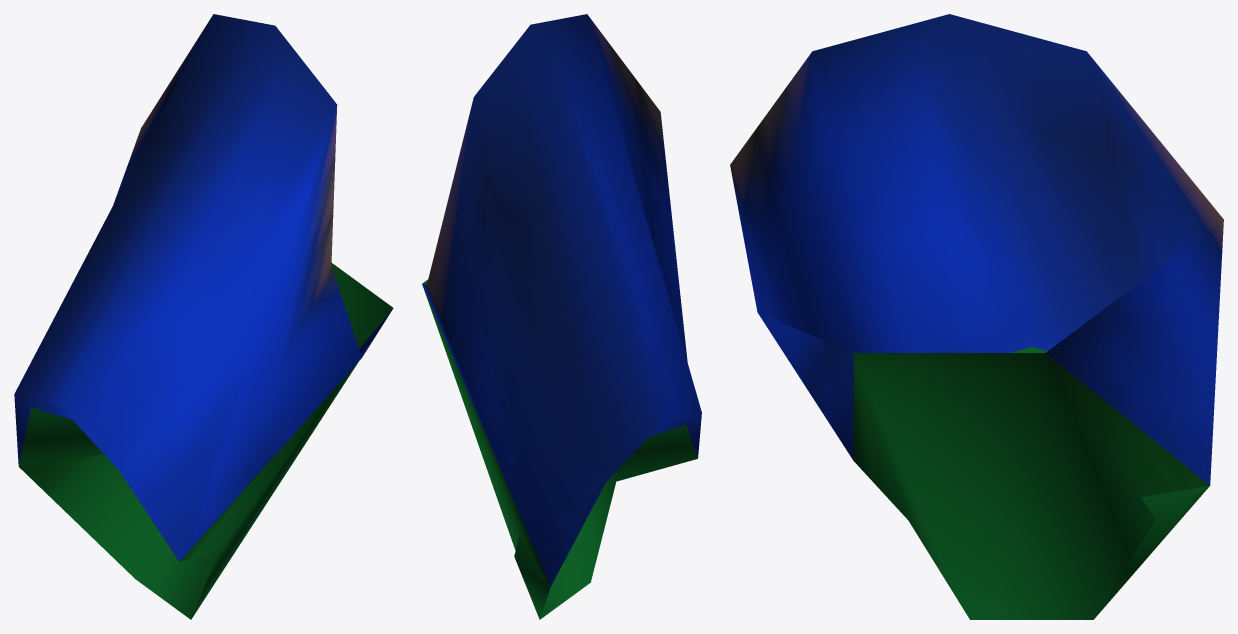
File: batch_0037.obj
The picture shows the model from 3 angles, left to right: view 1: azimuth 30°, elevation 25°; view 2: azimuth 150°, elevation 25°; view 3: azimuth 270°, elevation 25°; orthographic projection. The views are drawn at different scales.
Parts seen in each view (by area): view 1: batch_0037; view 2: batch_0037; view 3: batch_0037.
Part boxes in pixels (x1=…): batch_0037: x1=14, y1=14, x2=393, y2=619; batch_0037: x1=422, y1=14, x2=701, y2=619; batch_0037: x1=730, y1=14, x2=1223, y2=619.
Size of the model in its own units: 12 by 26 by 18.
1 material, 1 textured.
